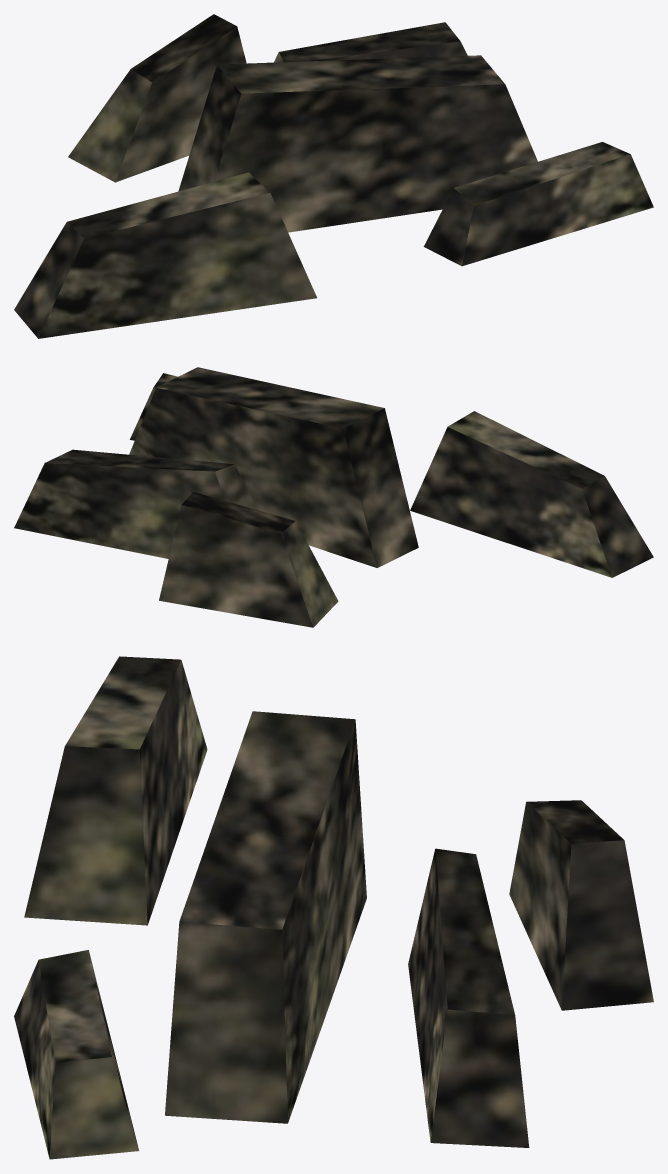
The model's file is rock_tclump3_hdtex.glb.
The picture shows the model from 3 angles, top to bottom: view 1: azimuth 30°, elevation 25°; view 2: azimuth 150°, elevation 25°; view 3: azimuth 270°, elevation 25°; orthographic projection. The views are drawn at different scales.
Parts seen in each view (by area): view 1: Rock_TCLump3; view 2: Rock_TCLump3; view 3: Rock_TCLump3.
Part boxes in pixels (box(x1,y1,x2,y2)): Rock_TCLump3: box(14, 14, 653, 338); Rock_TCLump3: box(14, 367, 653, 627); Rock_TCLump3: box(14, 656, 653, 1159).
Bounding box in the file's own units: 24.61 × 5.74 × 15.93.
1 material, 1 textured.
